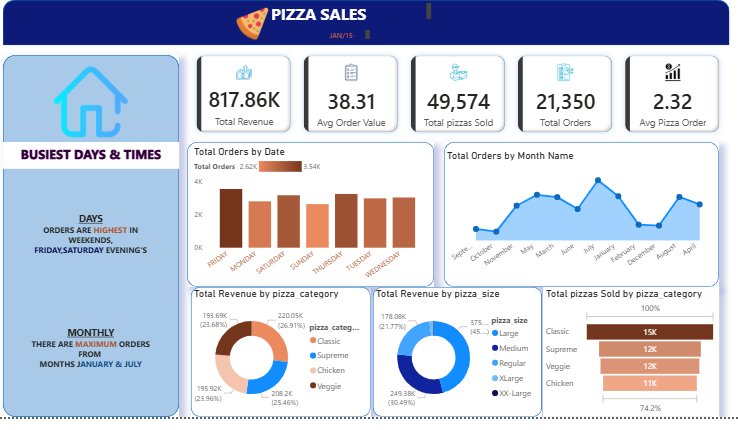

The page's visual inventory and layout, read from the dashboard file:
{"tool":"powerbi","page":{"name":"DASHBOARD HOME","canvas":[1280,720],"ordinal":0},"visuals":[{"type":"cardVisual","fields":{"Data":["pizza_sales.Total Revenue","pizza_sales.Avg Order Value","pizza_sales.Total pizzas Sold","pizza_sales.Total Orders","pizza_sales.Avg Pizza Order"]},"box":[337.6,97.1,911.2,161.3],"z":0},{"type":"shape","box":[28.4,20.9,1220.4,76.2],"z":1000},{"type":"textbox","box":[473.5,20.9,279.3,53.8],"z":2000},{"type":"textbox","box":[555.7,65.7,94.1,31.4],"z":3000},{"type":"image","box":[401.8,26.9,92.6,65.7],"z":4000},{"type":"shape","box":[337.6,258.4,415.3,243.5],"z":5000},{"type":"shape","box":[28.4,112,295.8,608],"z":6000},{"type":"columnChart","fields":{"Category":["pizza_sales.Date"],"Y":["pizza_sales.Total Orders"]},"box":[343.6,264.4,401.8,237.5],"z":7000},{"type":"shape","box":[769.3,258.4,461.6,243.5],"z":8000},{"type":"areaChart","fields":{"Category":["pizza_sales.Month Name"],"Y":["pizza_sales.Total Orders"]},"box":[769.3,270.4,448.1,219.6],"z":9000},{"type":"shape","box":[343.6,501.9,301.7,218.1],"z":10000},{"type":"shape","box":[649.8,501.9,283.8,218.1],"z":11000},{"type":"shape","box":[935.1,501.9,295.8,218.1],"z":12000},{"type":"donutChart","fields":{"Category":["pizza_sales.pizza_category"],"Y":["pizza_sales.Total Revenue"]},"box":[343.6,501.9,295.8,218.1],"z":13000},{"type":"donutChart","fields":{"Y":["pizza_sales.Total Revenue"],"Series":["pizza_sales.pizza_size"]},"box":[649.8,501.9,283.8,218.1],"z":14000},{"type":"funnel","fields":{"Category":["pizza_sales.pizza_category"],"Y":["pizza_sales.Total pizzas Sold"]},"box":[935.1,501.9,295.8,218.1],"z":15000},{"type":"textbox","box":[28.4,258.4,295.8,44.8],"z":16000},{"type":"textbox","box":[64.2,321.2,224.1,398.8],"z":17000},{"type":"image","box":[109,124,134.4,134.4],"z":18000}]}

Visuals, with their boxes on the page's 1280x720 design canvas (x1, y1, x2, y2). These are canvas units, not pixel positions in the 738x430 screenshot, which may show the page scaled, cropped or inside an application window:
cardVisual - pizza_sales.Total Revenue x pizza_sales.Avg Order Value: [x1=338, y1=97, x2=1249, y2=258]
shape: [x1=28, y1=21, x2=1249, y2=97]
textbox: [x1=474, y1=21, x2=753, y2=75]
textbox: [x1=556, y1=66, x2=650, y2=97]
image: [x1=402, y1=27, x2=494, y2=93]
shape: [x1=338, y1=258, x2=753, y2=502]
shape: [x1=28, y1=112, x2=324, y2=720]
columnChart - pizza_sales.Date x pizza_sales.Total Orders: [x1=344, y1=264, x2=745, y2=502]
shape: [x1=769, y1=258, x2=1231, y2=502]
areaChart - pizza_sales.Month Name x pizza_sales.Total Orders: [x1=769, y1=270, x2=1217, y2=490]
shape: [x1=344, y1=502, x2=645, y2=720]
shape: [x1=650, y1=502, x2=934, y2=720]
shape: [x1=935, y1=502, x2=1231, y2=720]
donutChart - pizza_sales.pizza_category x pizza_sales.Total Revenue: [x1=344, y1=502, x2=639, y2=720]
donutChart - pizza_sales.Total Revenue x pizza_sales.pizza_size: [x1=650, y1=502, x2=934, y2=720]
funnel - pizza_sales.pizza_category x pizza_sales.Total pizzas Sold: [x1=935, y1=502, x2=1231, y2=720]
textbox: [x1=28, y1=258, x2=324, y2=303]
textbox: [x1=64, y1=321, x2=288, y2=720]
image: [x1=109, y1=124, x2=243, y2=258]
